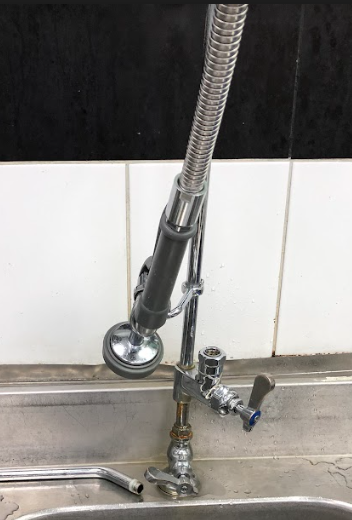Deck Faucet: (53, 5, 318, 503)
